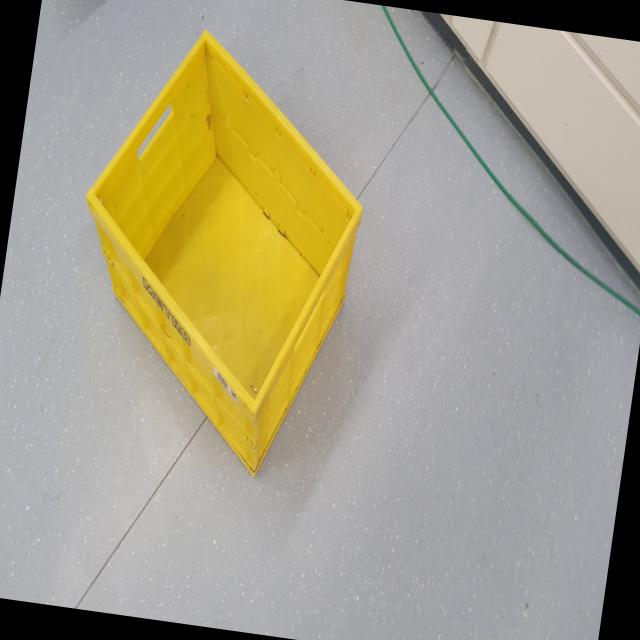box: (40, 0, 390, 511)
